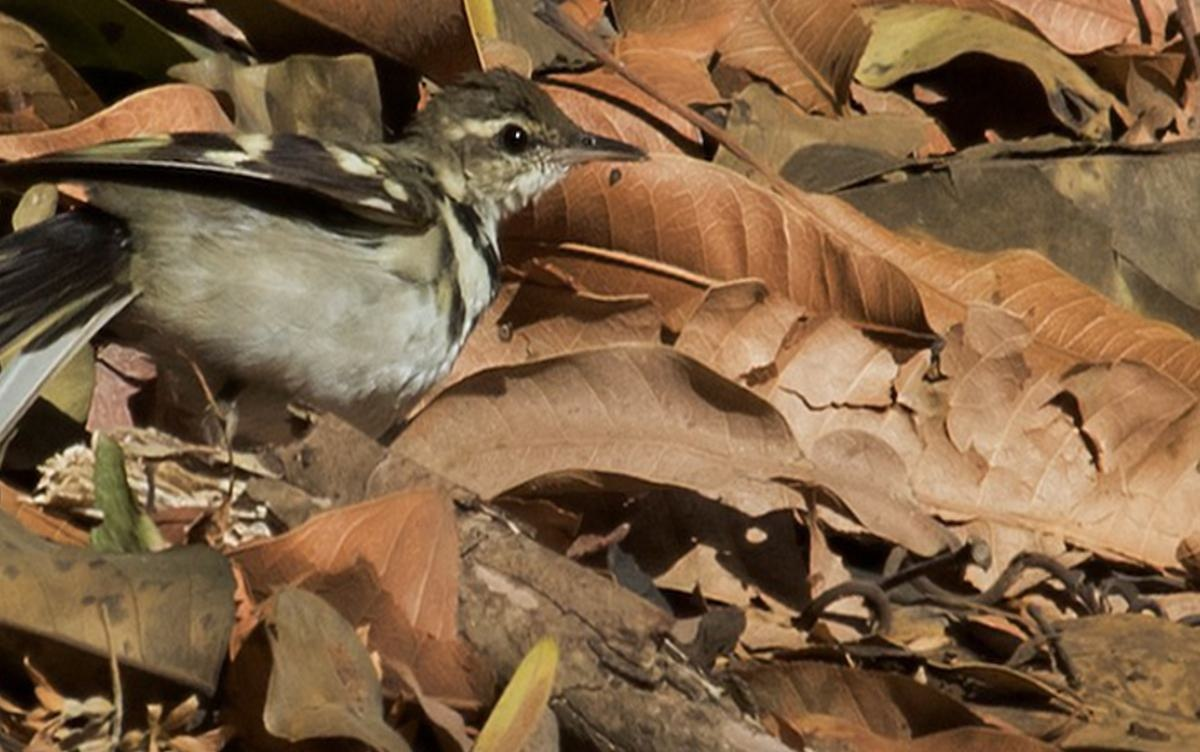wagtail: (1, 67, 663, 398)
